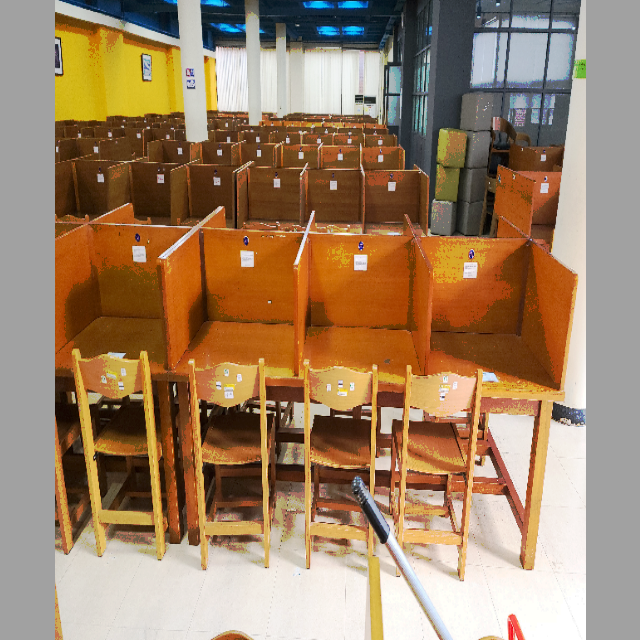empty: (169, 223, 299, 449), (436, 229, 573, 443), (304, 225, 429, 446)
